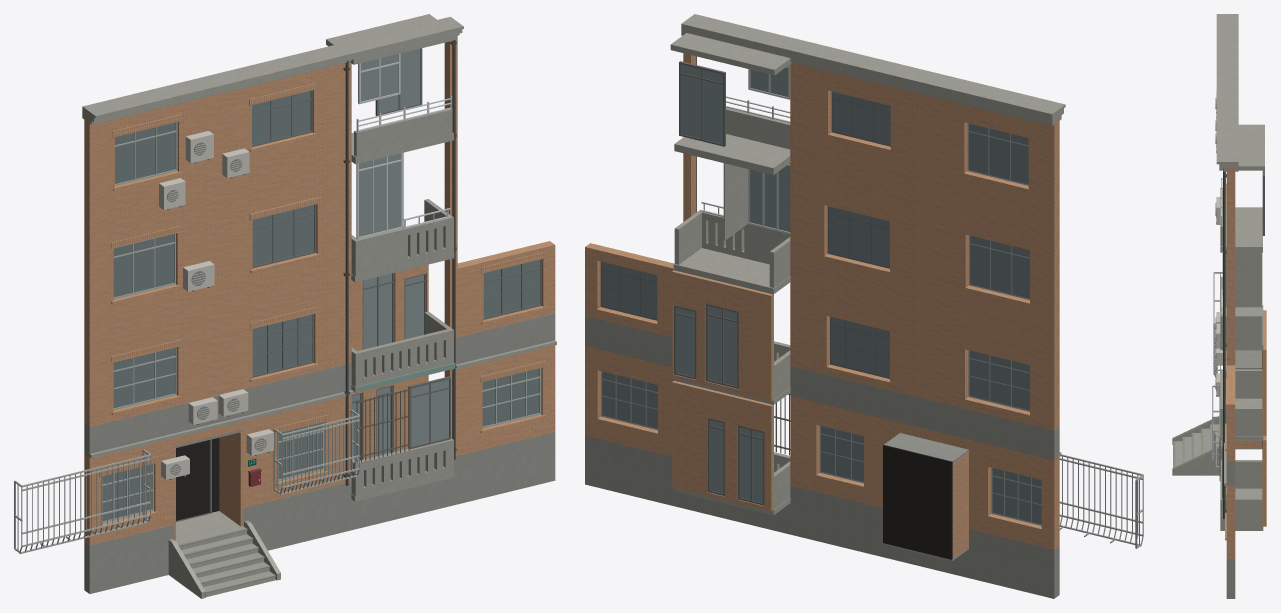
Rendered from full-source.glb.
3 views of the same model, side by side, from view 1: azimuth 30°, elevation 25°; view 2: azimuth 150°, elevation 25°; view 3: azimuth 270°, elevation 25° (orthographic). The views are drawn at different scales.
Parts seen in each view (by area): view 1: 淮海中路后排1230号入口与叠层阳台; view 2: 淮海中路后排1230号入口与叠层阳台; view 3: 淮海中路后排1230号入口与叠层阳台.
Boxes of the visible parts, x1=… form: 淮海中路后排1230号入口与叠层阳台: x1=14, y1=14, x2=556, y2=598; 淮海中路后排1230号入口与叠层阳台: x1=585, y1=14, x2=1143, y2=598; 淮海中路后排1230号入口与叠层阳台: x1=1172, y1=14, x2=1266, y2=598.
Bounding box in the file's own units: 15.51 × 13.2 × 2.83.
Materials: 22 (4 with a texture image).
